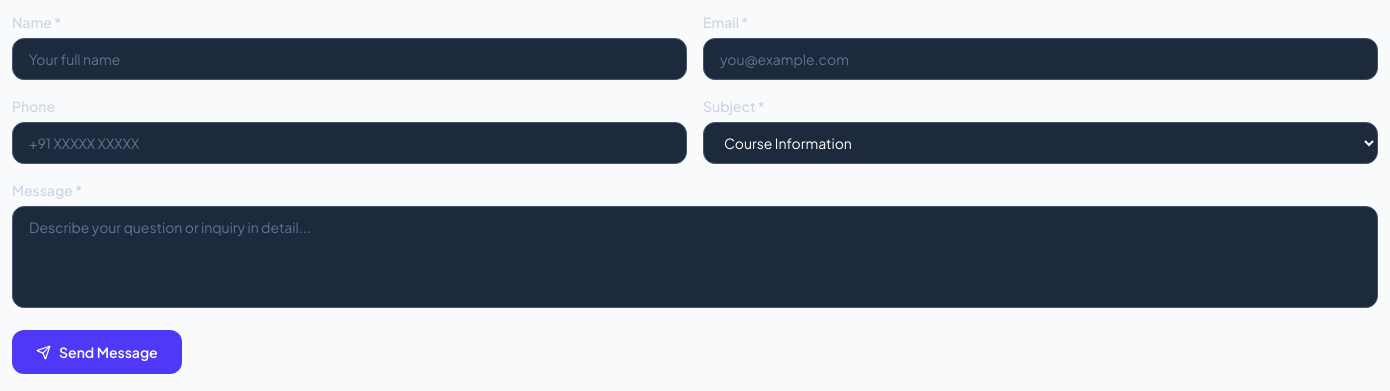
Test: EnquiryForm › success message shows the submitted email
Step 1. Type "Alice" into the field with placeholder "Your full name" → (350, 59), box [12,38,687,80]
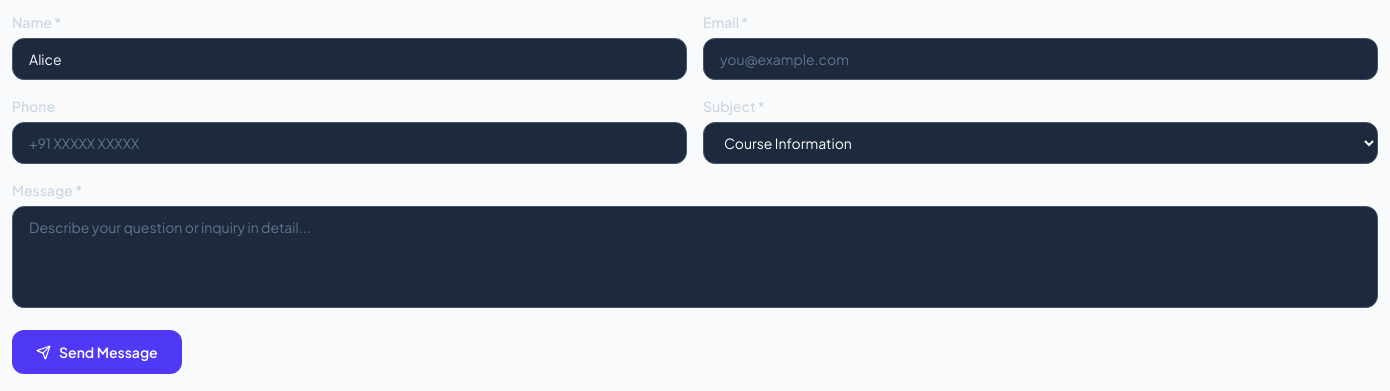
Step 2. Type "alice@example.com" into the field with placeholder "you@example.com" → (1040, 59), box [703,38,1378,80]
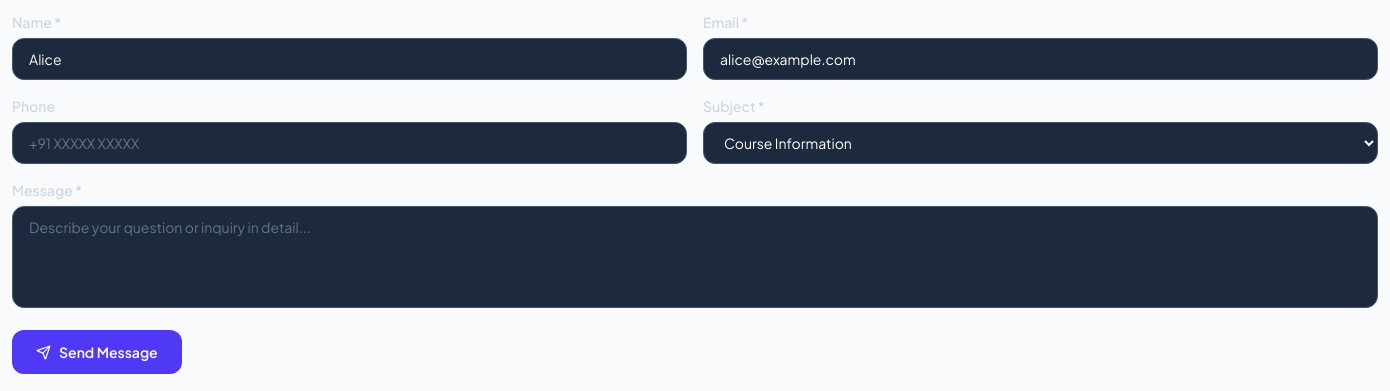
Step 3. Type "Detailed enquiry message goes here." into the text box with placeholder "Describe your question or inquiry in detail..." → (695, 257), box [12,206,1378,308]
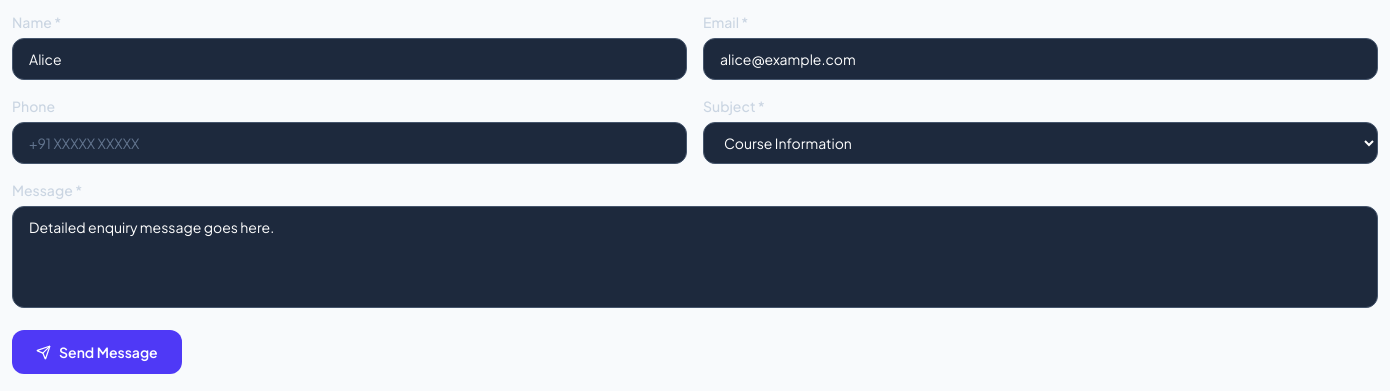
Step 4. Click the button "Send Message" → (97, 352), box [12,330,182,374]
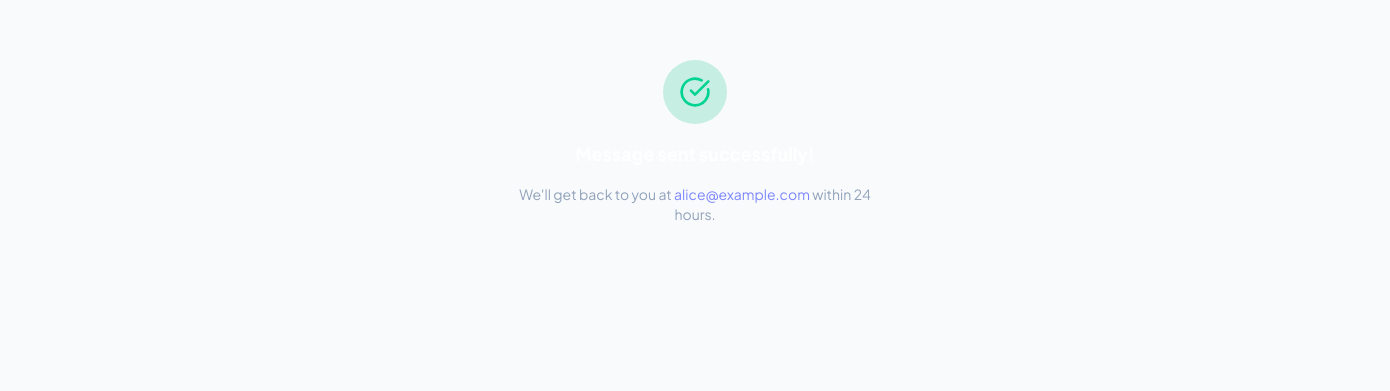
Expected: the text "alice@example.com" is shown, [674,185,810,203]
